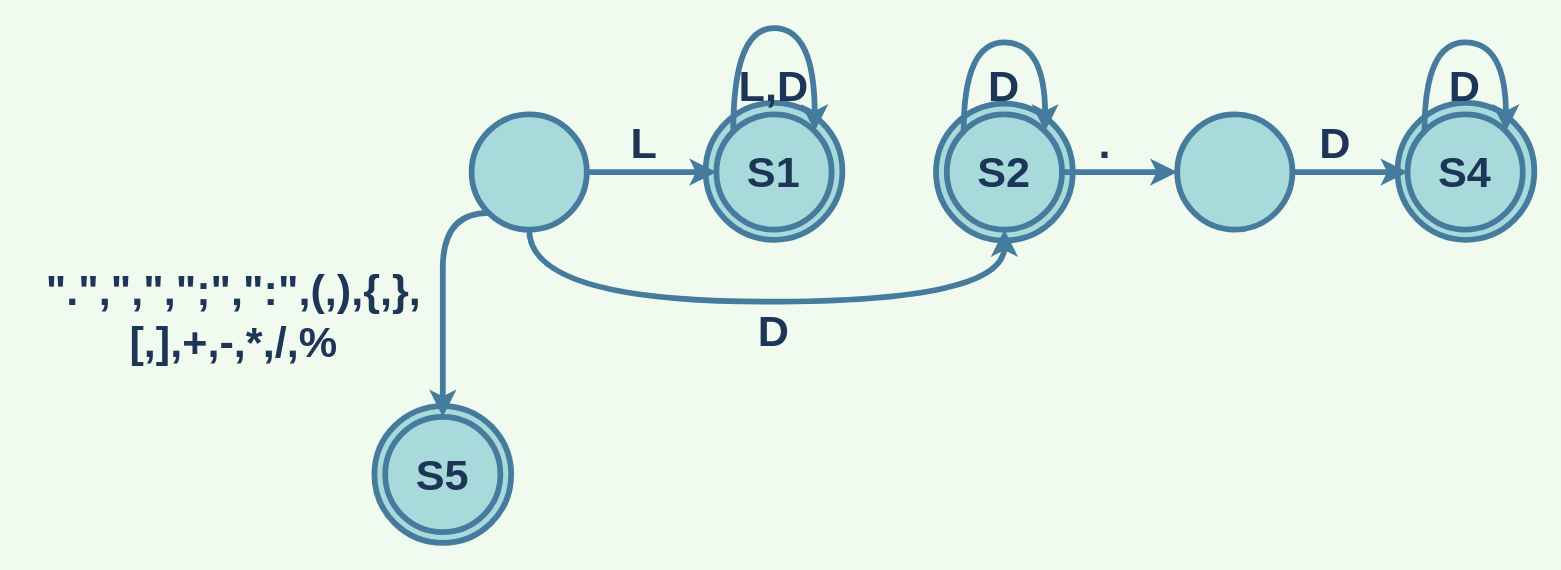
This 1561x570 diagram has some shape labels left out. The shapes that lost their labels are listed below. From the top down, each one's centre as x and y in pixels, then its label:
At (528,171): "S0".
At (1234,171): "S3".
